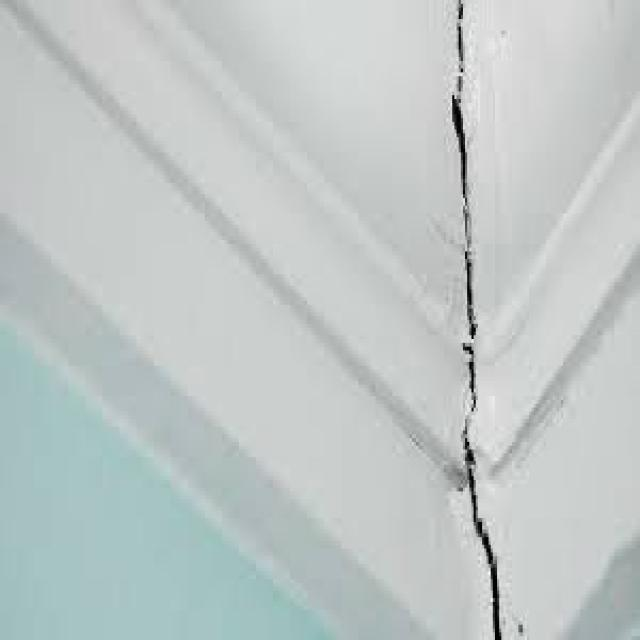Crack: (444, 0, 503, 636)
